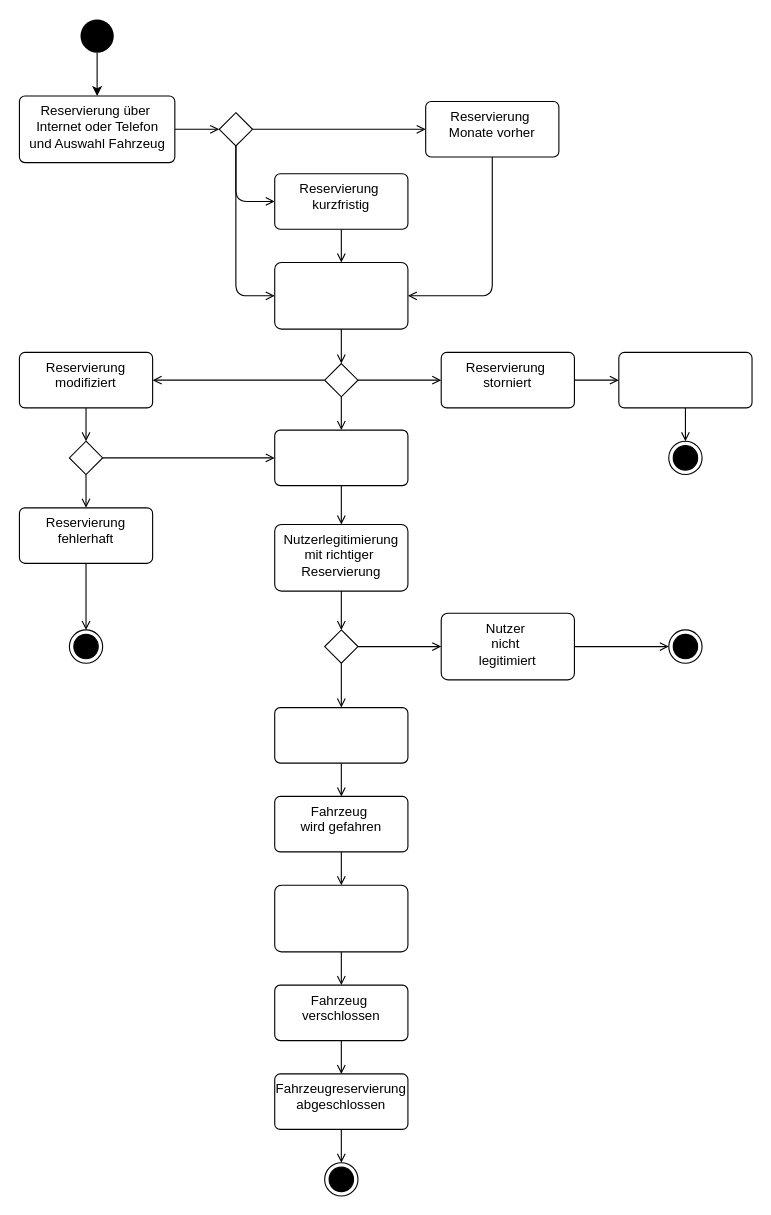
Some shapes in this 771 by 1215 pixel diagram are drawn without their labels. Each missing label, with the box of its shape:
Fahrzeug an definierten Parkplatz abgestellt: (274, 884, 408, 952)
Fahrzeug geöffnet: (274, 707, 408, 763)
Reservierung abgebrochen: (618, 351, 752, 408)
Reservierung erfolgreich: (274, 429, 408, 486)
Reservierungs- zeitraum angegeben: (274, 261, 408, 329)
